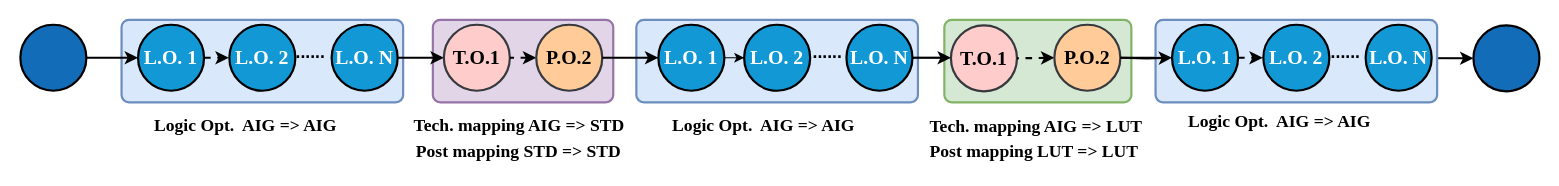
Some shapes in this 1559 by 186 pixel diagram are drawn without their labels. Here are the shapes that lost their labels. From the top down, the centre of each, then its label:
At point 53,57: "IN".
At point 1506,58: "OUT".
